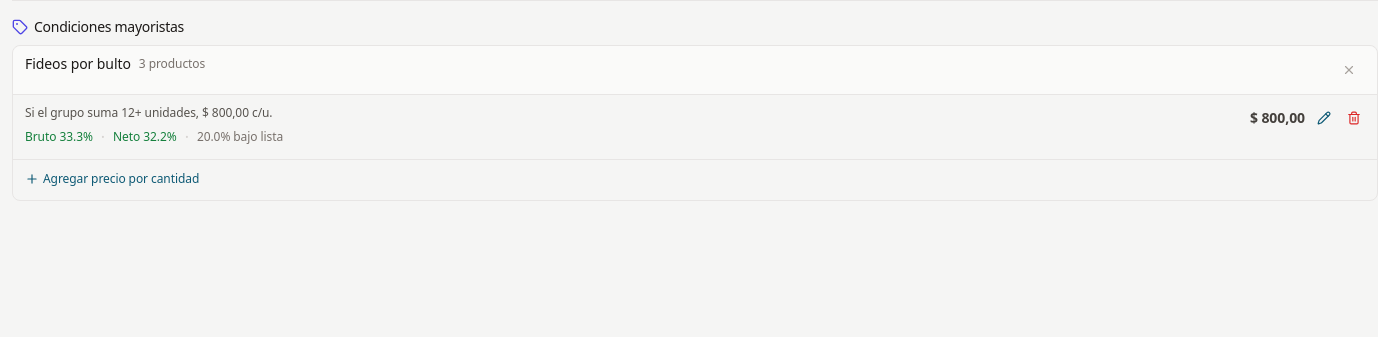
Test: ProductoCondicionesMayoristas › al editar una escala compartida avisa que alcanza a todos
Click the button named "Editar la escala" at [1324, 118], box [1313,107,1335,129]
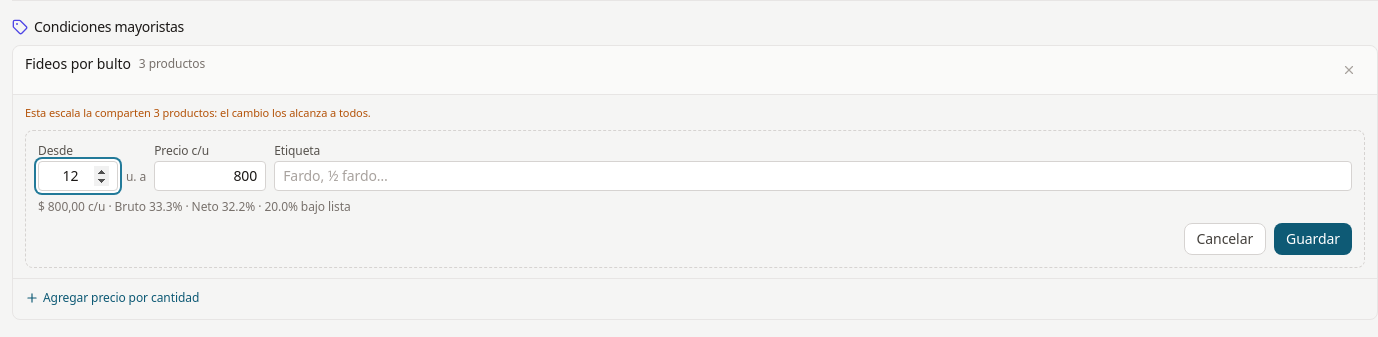
Expected: the text "la comparten 3 productos" is shown, [25,105,371,120]
